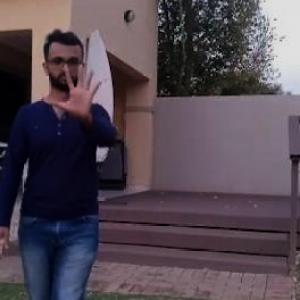follow_hand: (49, 57, 110, 118)
